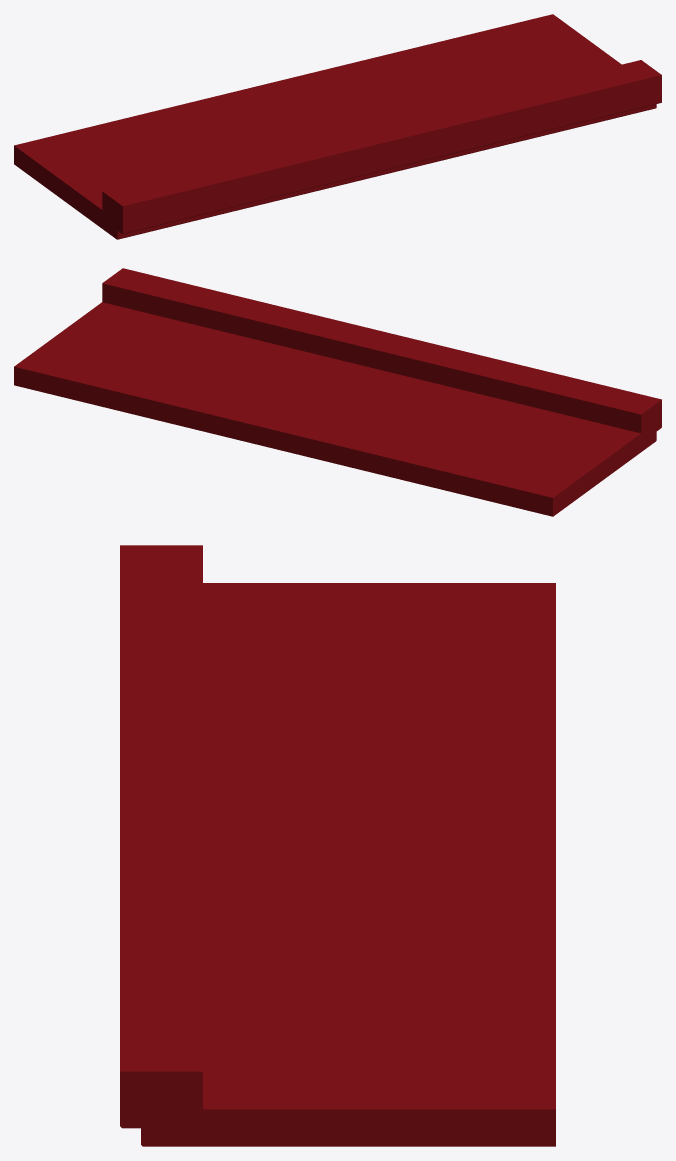
The model's file is SM_MH_01_Wood_Porch_01.fbx.
The picture shows the model from 3 angles, top to bottom: view 1: azimuth 30°, elevation 25°; view 2: azimuth 150°, elevation 25°; view 3: azimuth 270°, elevation 25°; orthographic projection. The views are drawn at different scales.
Parts seen in each view (by area): view 1: SM_MH_01_Wood_Porch_01_LOD0; view 2: SM_MH_01_Wood_Porch_01_LOD0; view 3: SM_MH_01_Wood_Porch_01_LOD0.
Part boxes in pixels (bbox=[...]): SM_MH_01_Wood_Porch_01_LOD0: bbox=[14, 14, 661, 239]; SM_MH_01_Wood_Porch_01_LOD0: bbox=[14, 268, 661, 516]; SM_MH_01_Wood_Porch_01_LOD0: bbox=[120, 545, 555, 1146].
Size of what is drawn, in the model's own units: 300 by 20.01 by 105.
